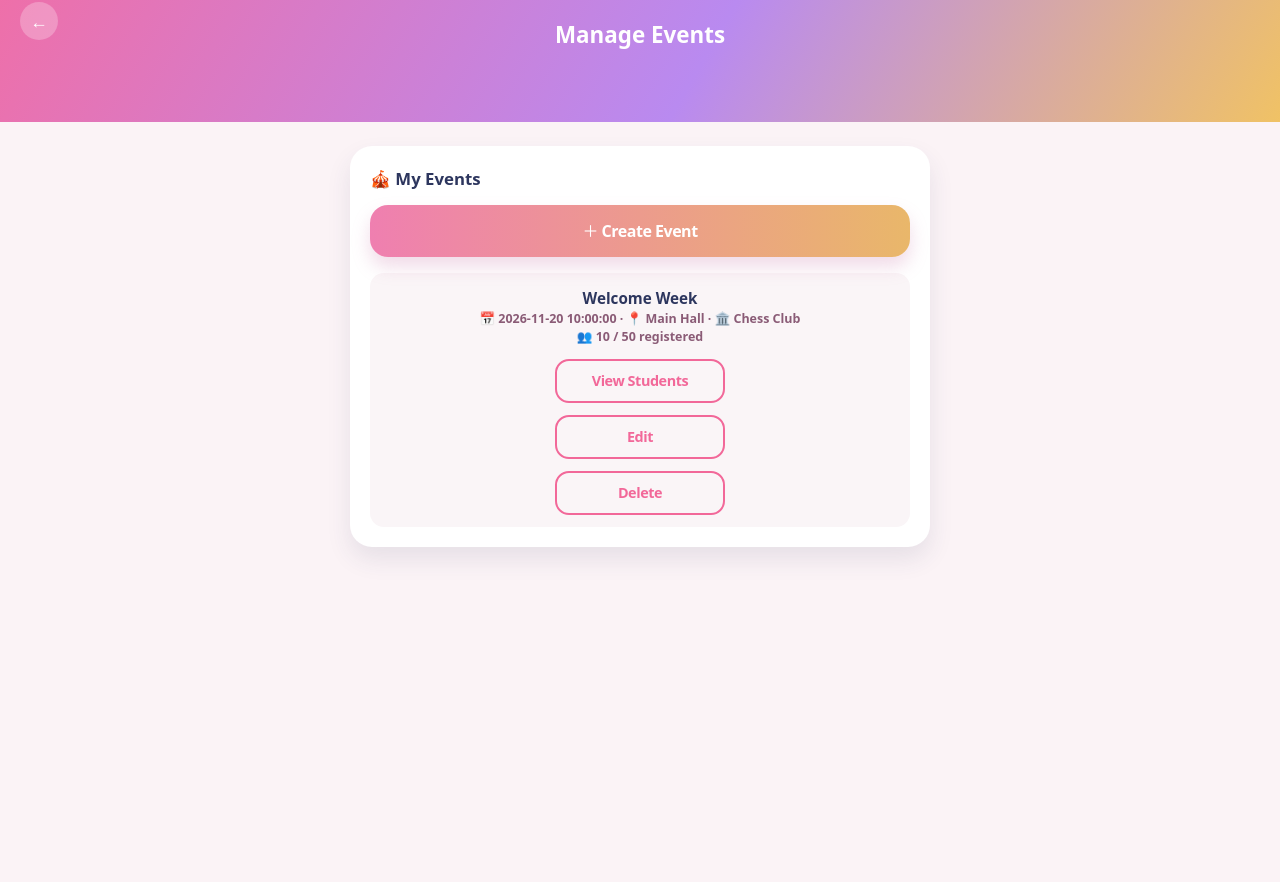
Test: ClubEventsPage (event management) › F4.2: an invalid form shows an error and sends nothing
Click the button "＋ Create Event". click: [640, 231]
box: [370,205,910,257]
(page scrolled)
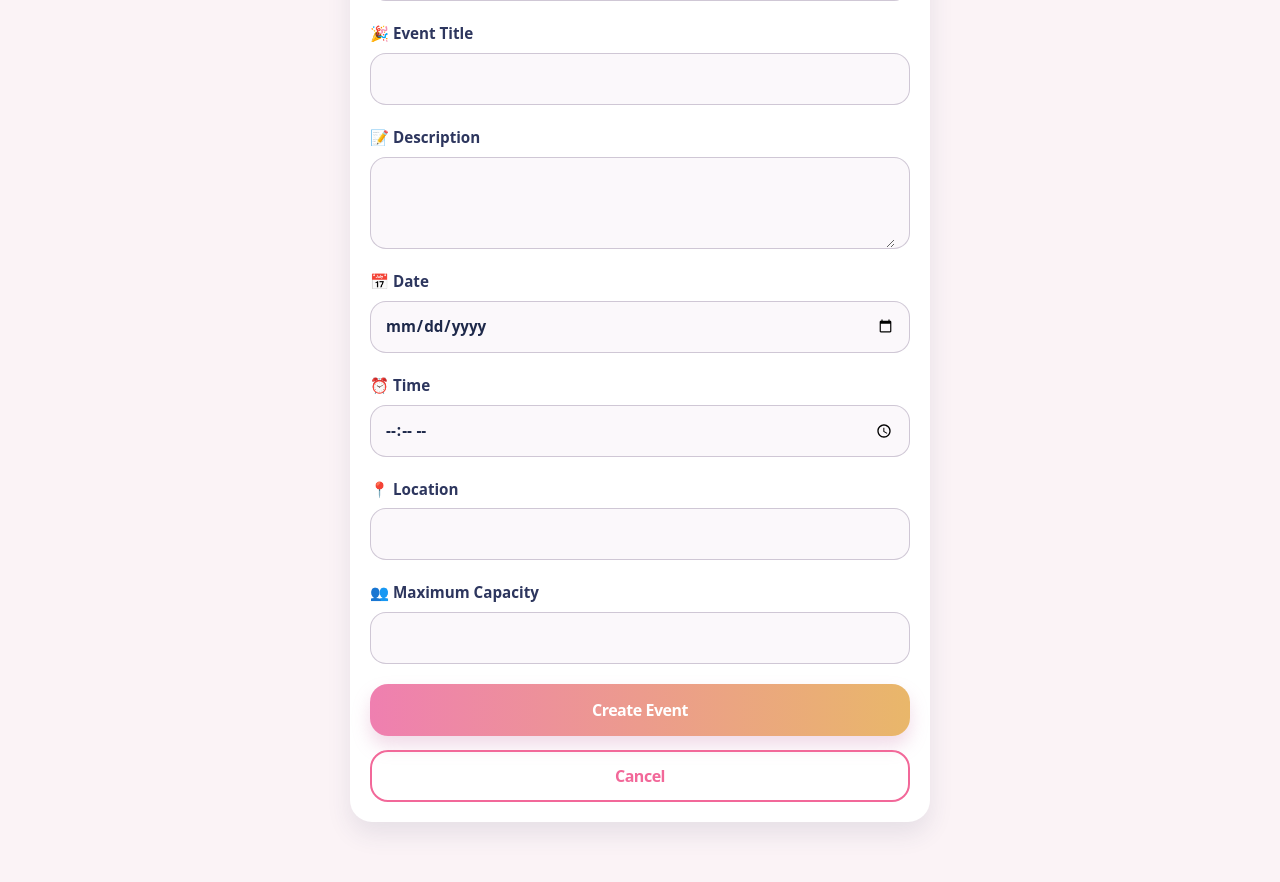
Click the button "Create Event". click: [640, 710]
box: [370,684,910,736]
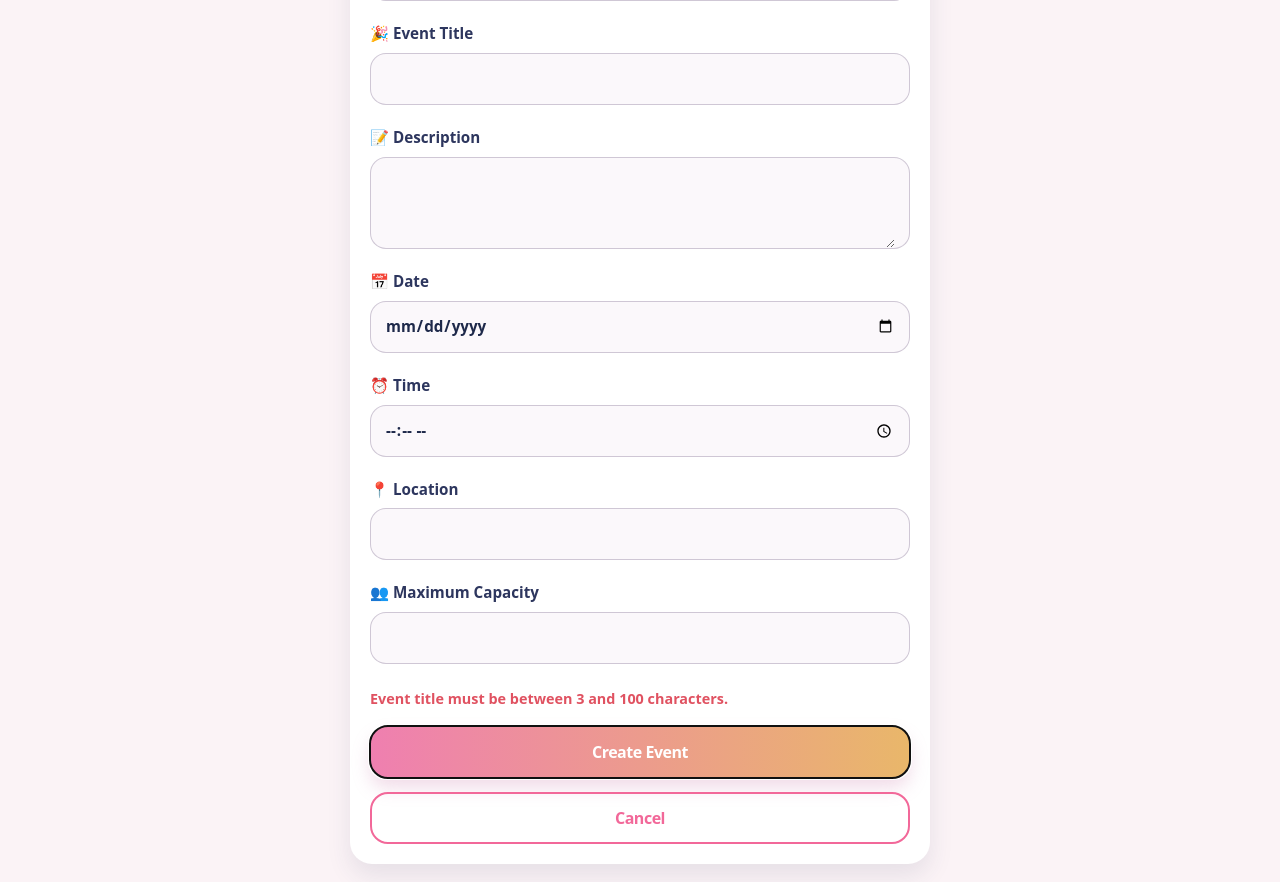
Expected: the text "Event title must be between 3 and 100 characters." is shown, [370,689,728,708]
